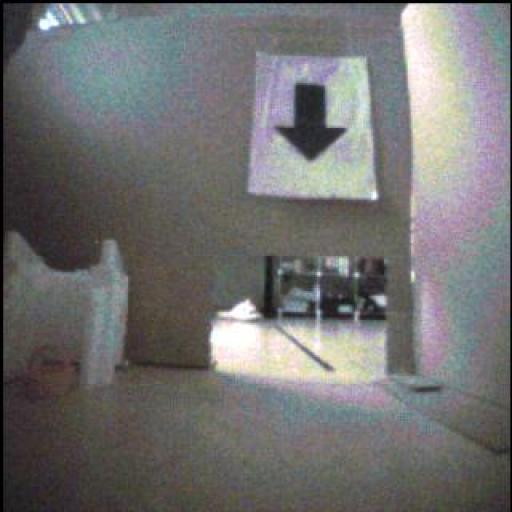arrow: (278, 84, 348, 161)
